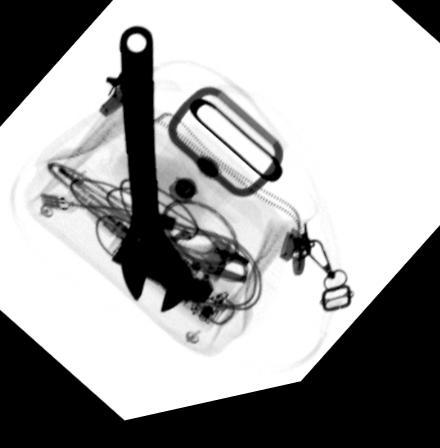Wrench: (109, 29, 196, 324)
